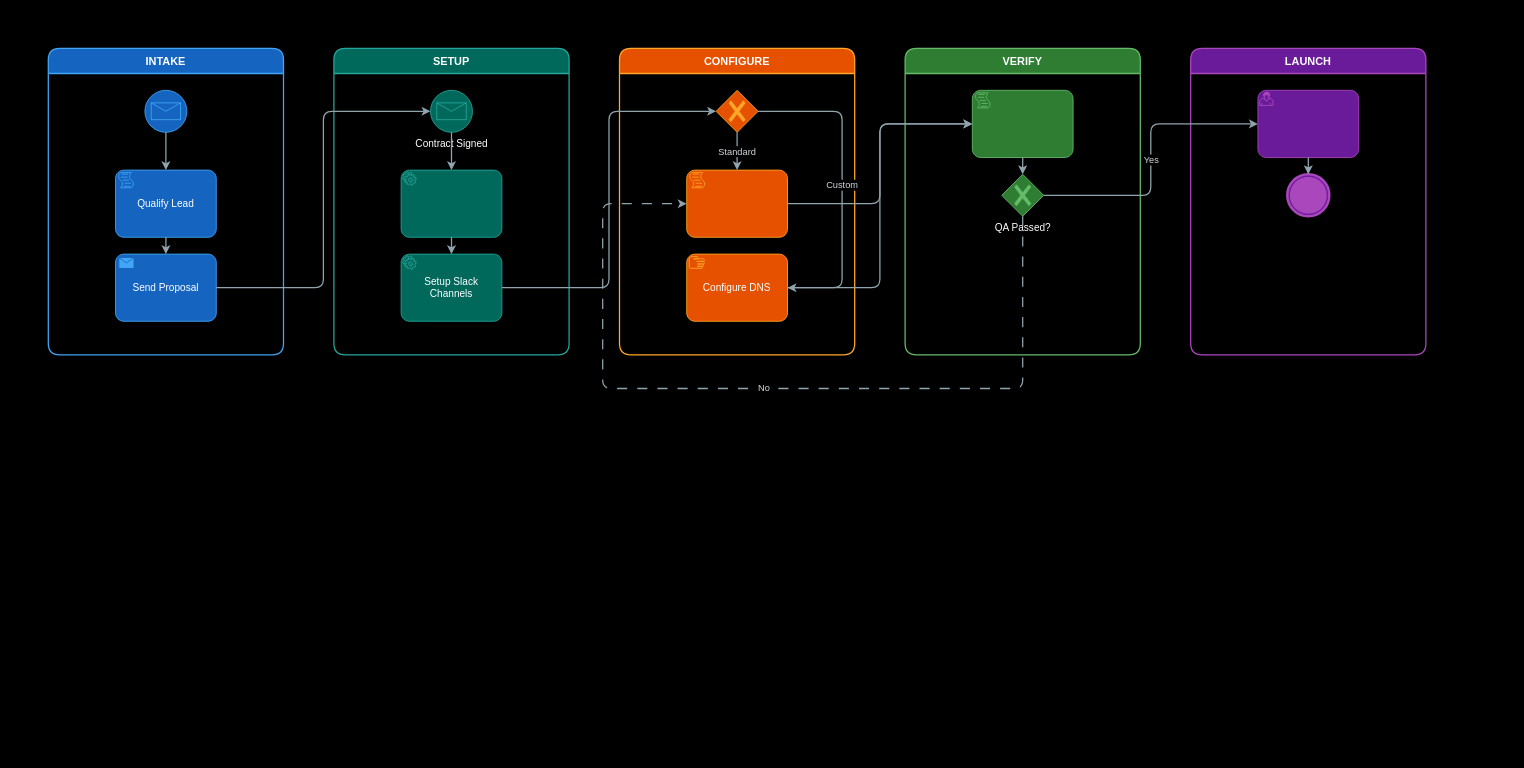
Some shapes in this 1524 by 768 pixel diagram are drawn without their labels. Here are the shapes that lost their labels. From the top down, the centre of each, then its label:
At point 165,110: "Lead Received".
At point 736,110: "Scope Review".
At point 1022,123: "QA Checklist".
At point 1308,123: "Client Handoff".
At point 451,203: "Create Accounts".
At point 737,203: "Provision Infrastructure".
